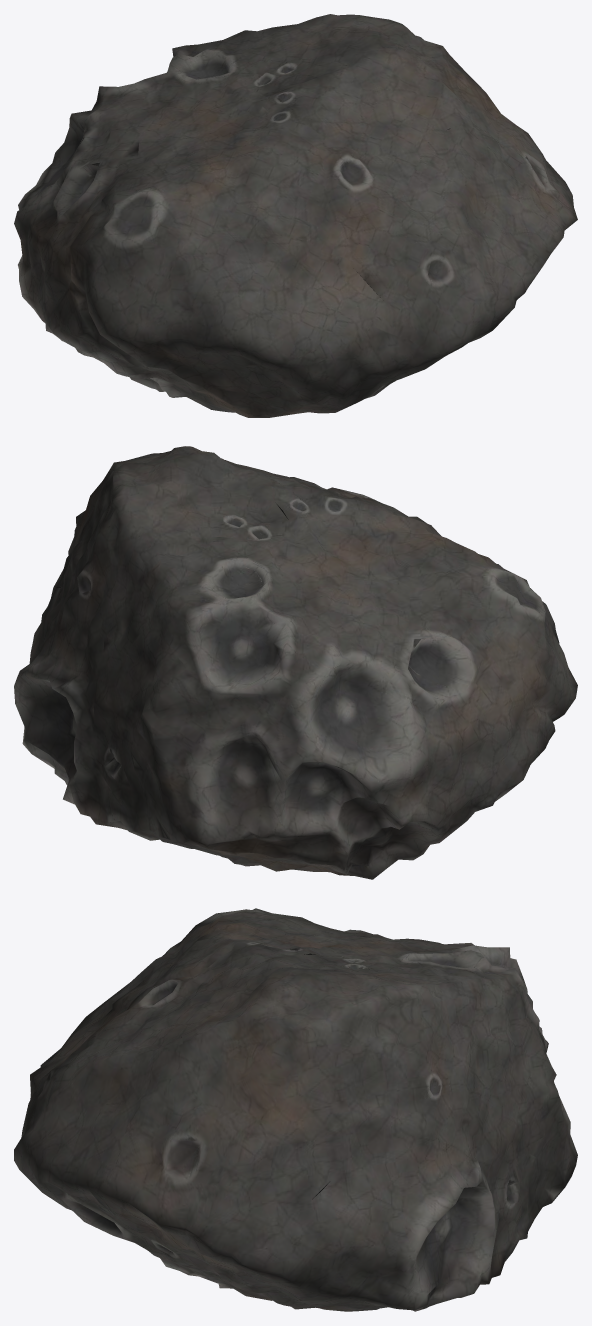
The model's file is asteroid_e.glb.
The picture shows the model from 3 angles, top to bottom: view 1: azimuth 30°, elevation 25°; view 2: azimuth 150°, elevation 25°; view 3: azimuth 270°, elevation 25°; orthographic projection. The views are drawn at different scales.
Visible parts, largest first — view 1: AST_E_low; view 2: AST_E_low; view 3: AST_E_low.
Part boxes in pixels (x1,y1,x2,y2): AST_E_low: (14, 14, 577, 417); AST_E_low: (14, 446, 577, 879); AST_E_low: (14, 908, 577, 1311).
Size of the model in its own units: 1.87 by 1.23 by 1.76.
Materials: 1 (1 with a texture image).
